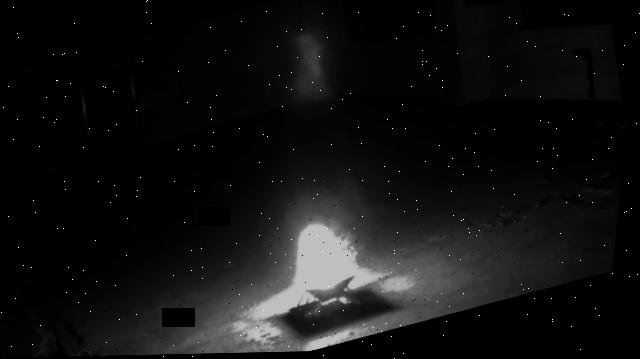fire: (285, 215, 371, 295)
smoke: (271, 18, 355, 113)
